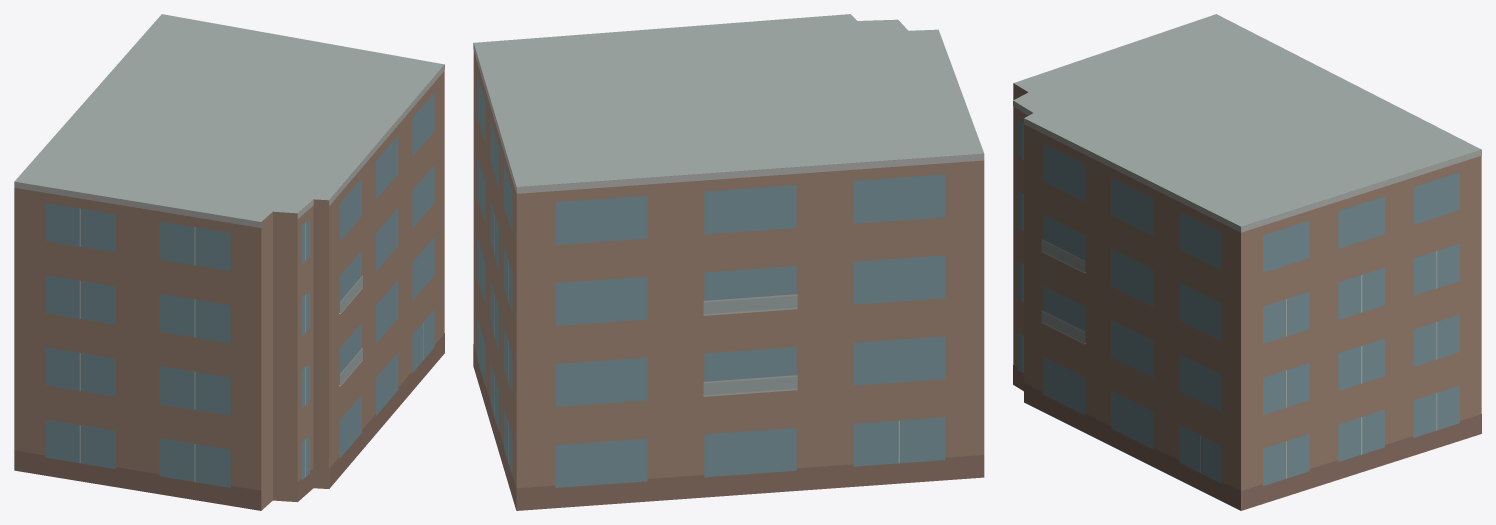
File: survey-upis-32816432.glb
3 renders of one model, left to right at view 1: azimuth 30°, elevation 25°; view 2: azimuth 150°, elevation 25°; view 3: azimuth 270°, elevation 25°, orthographic. The views are drawn at different scales.
Parts seen in each view (by area): view 1: survey-upis-32816432.tmp; view 2: survey-upis-32816432.tmp; view 3: survey-upis-32816432.tmp.
Part boxes in pixels (bbox=[...]): survey-upis-32816432.tmp: bbox=[14, 14, 444, 510]; survey-upis-32816432.tmp: bbox=[473, 14, 984, 510]; survey-upis-32816432.tmp: bbox=[1013, 14, 1481, 510].
Bounding box in the file's own units: 18.63 × 11.6 × 17.34.
